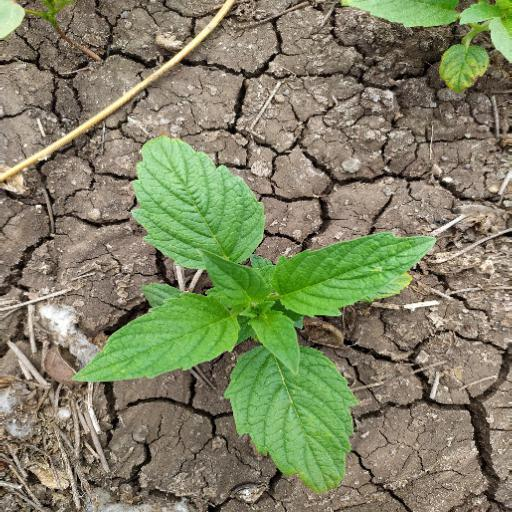crop: (72, 134, 439, 512)
